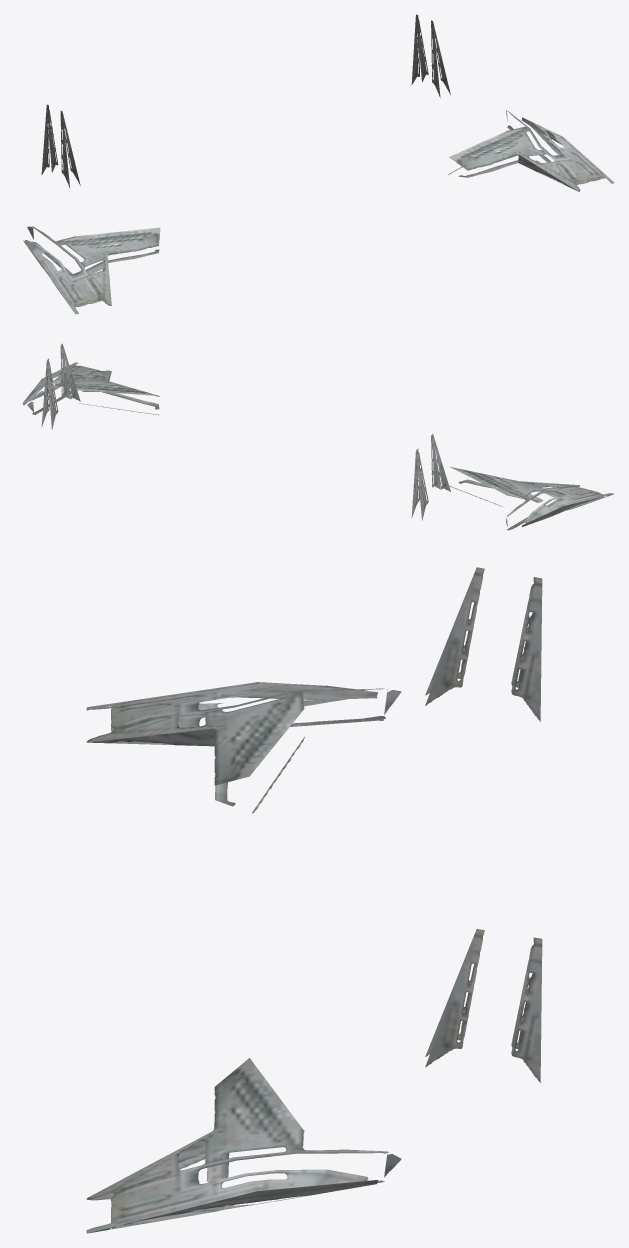
File: kse_firespray_struct_s02_l2.fbx
3 views of the same model, one above another, from view 1: azimuth 30°, elevation 25°; view 2: azimuth 150°, elevation 25°; view 3: azimuth 270°, elevation 25° (orthographic). The views are drawn at different scales.
Visible parts, largest first — view 1: mesh_node; view 2: mesh_node; view 3: mesh_node.
Boxes of the visible parts, box(x1,y1,x2,y2) form: mesh_node: box(23, 14, 614, 314); mesh_node: box(22, 343, 613, 530); mesh_node: box(86, 567, 542, 1233).
Bounding box in the file's own units: 24.26 × 4.78 × 8.88.
1 material, 1 textured.
